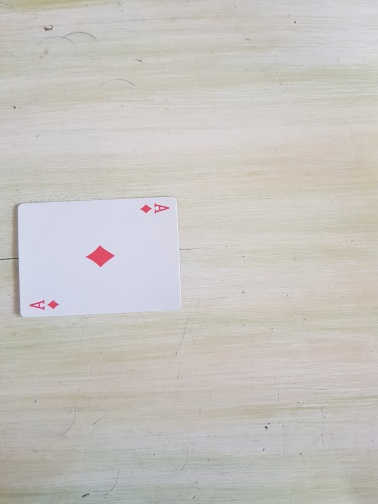ace: (16, 196, 182, 319)
